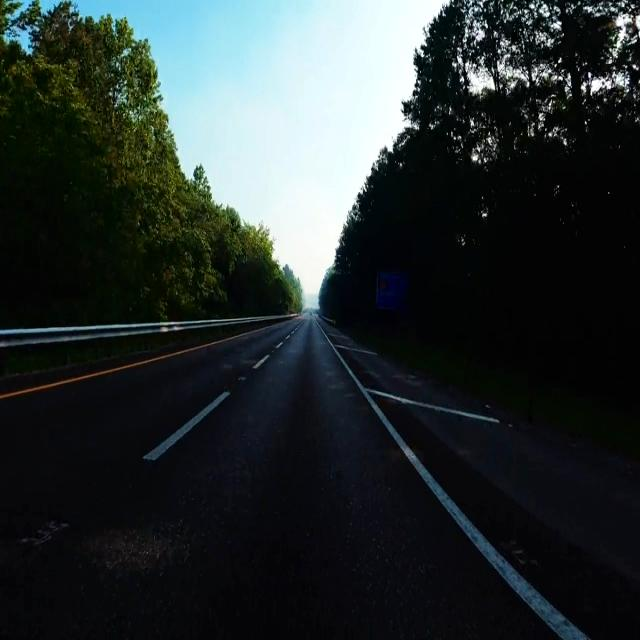lane: (315, 321, 588, 639), (154, 392, 229, 458)
road: (0, 320, 542, 638)
